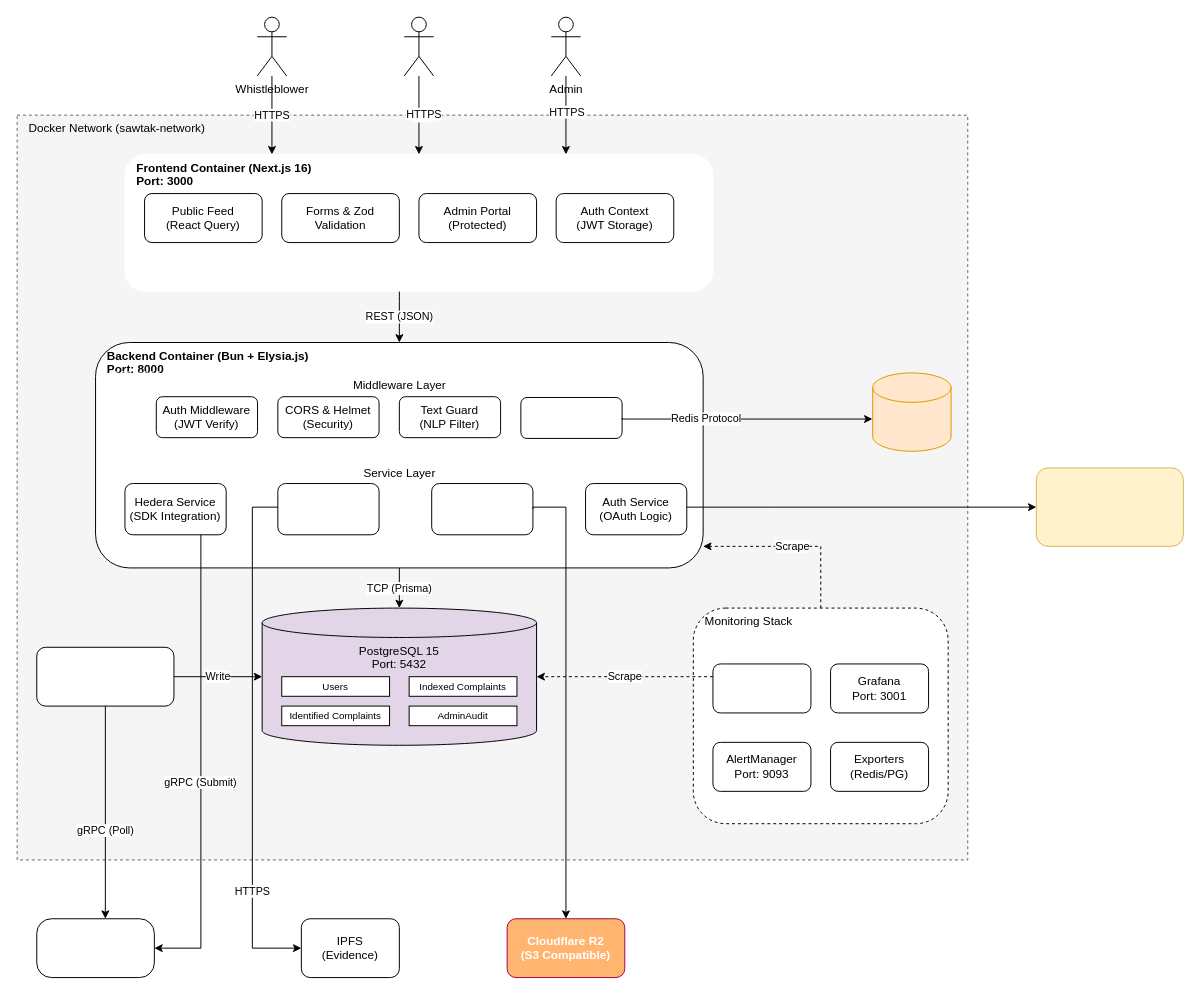
This 1201x995 diagram has some shape labels left out. The centre of each missing label's shape, as x and y in pixels:
Anonymous Submission Svc: the point at 328,509
Government Issued Digital ID (Haweya) System: the point at 1109,506
HCS Indexer (Background Worker): the point at 105,676
Hedera Hashgraph (HCS Topic): the point at 95,948
Identified Complaint Svc: the point at 482,509
Prometheus Port: 9090: the point at 761,688
Rate Limiter (Redis): the point at 571,417
Redis (Cache/Queue): the point at 911,411
